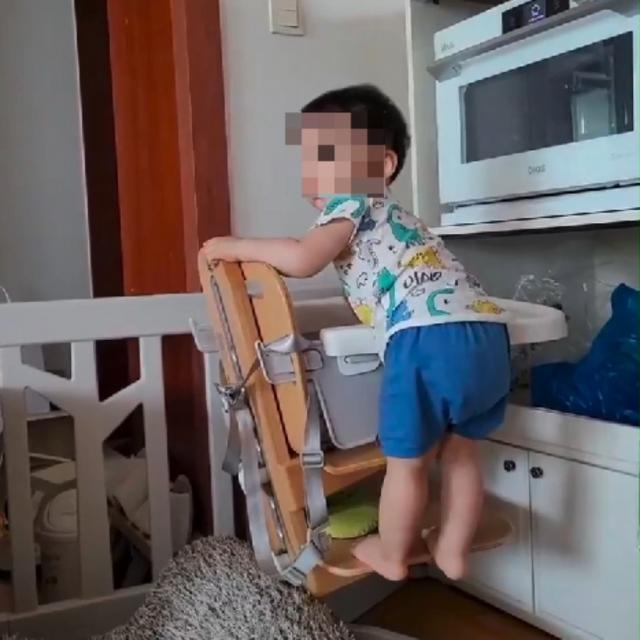child: (197, 86, 512, 581)
